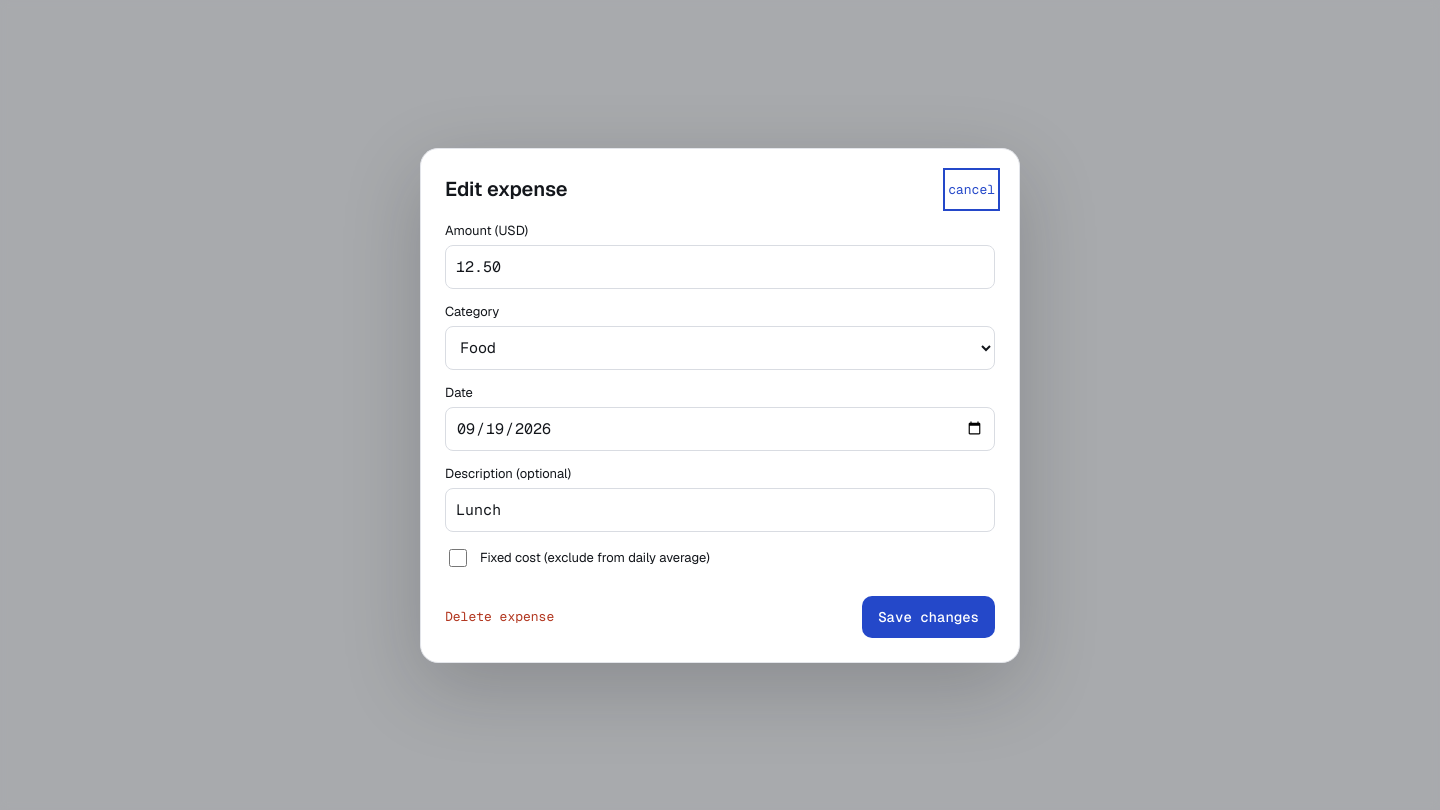
explains invalid amount 0 without saving
The image size is (1440, 810).
Replace the text in the field labelled "Amount (USD)" with "0" at (720, 266), box [445,244,995,288]
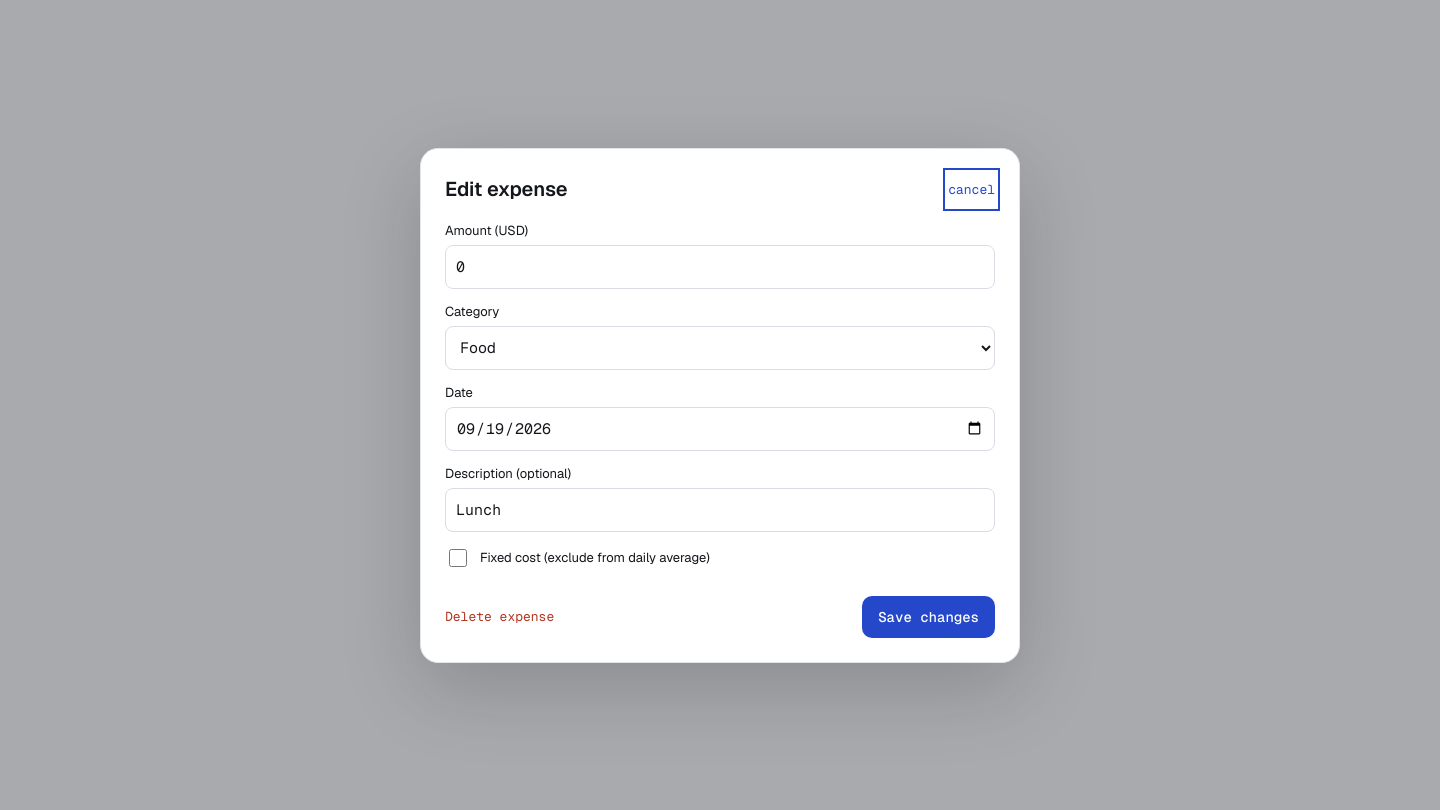
Click the button "Save changes" at (929, 616), box [862,596,995,638]
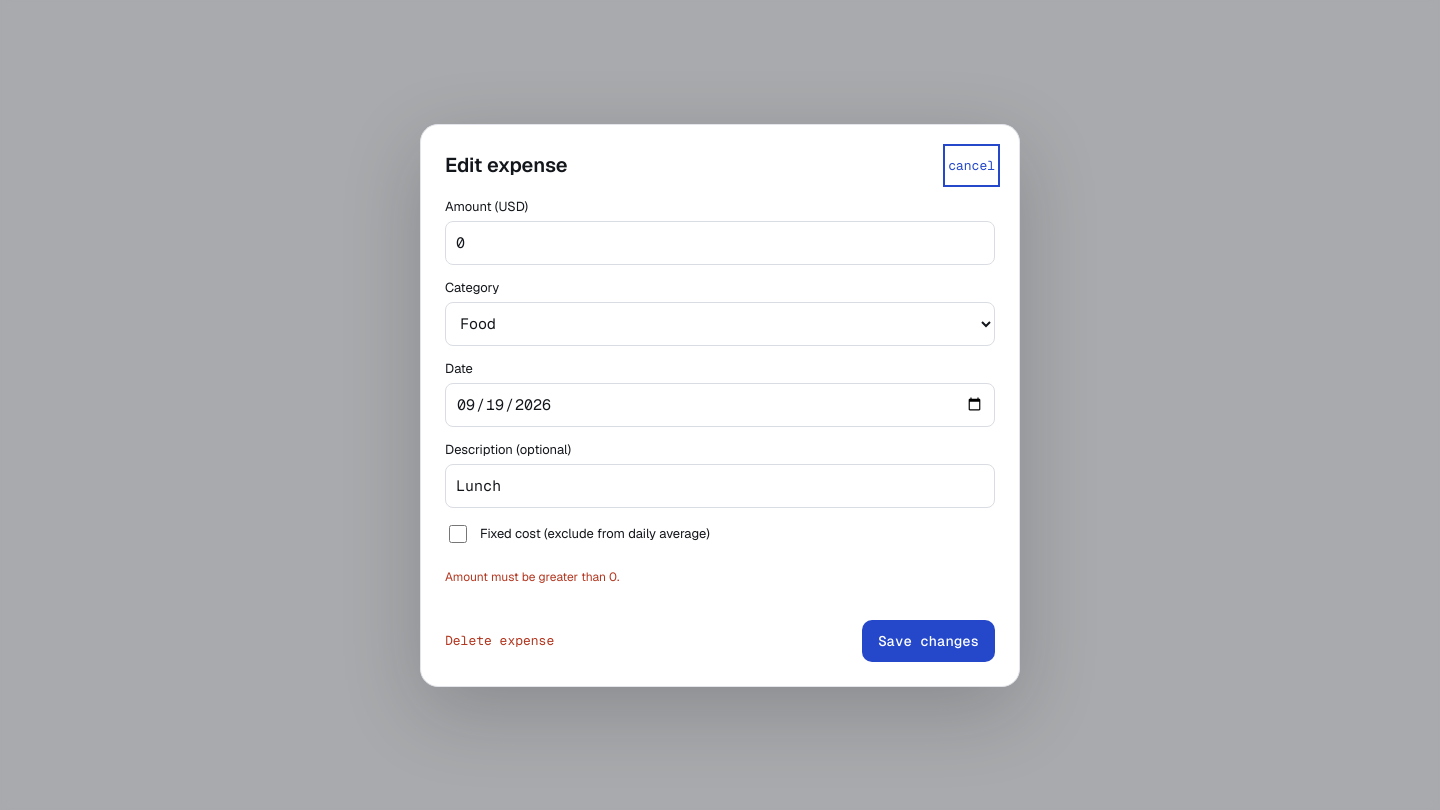
Now the message reads "Amount must be greater than 0.", box [445,568,619,584]
